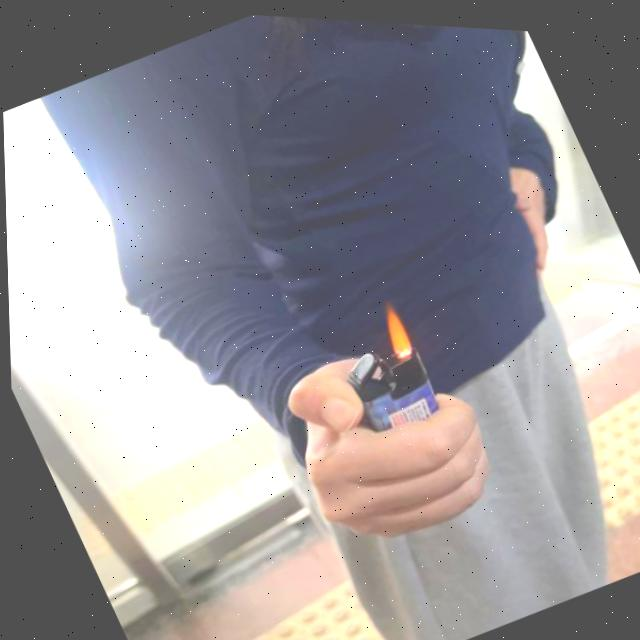Fire: (372, 296, 420, 363)
